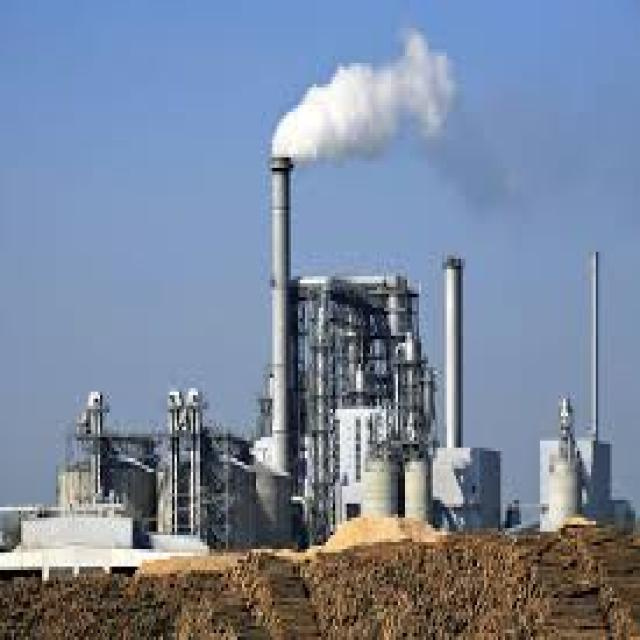Smoke: (266, 23, 464, 174)
